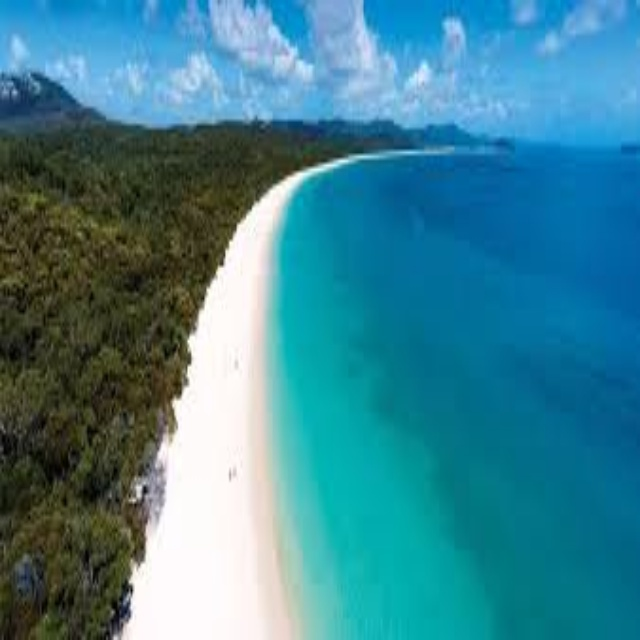linhaEspraiamento: (211, 317, 394, 638), (242, 235, 311, 335), (255, 208, 328, 242), (275, 186, 300, 215), (288, 177, 322, 190)
